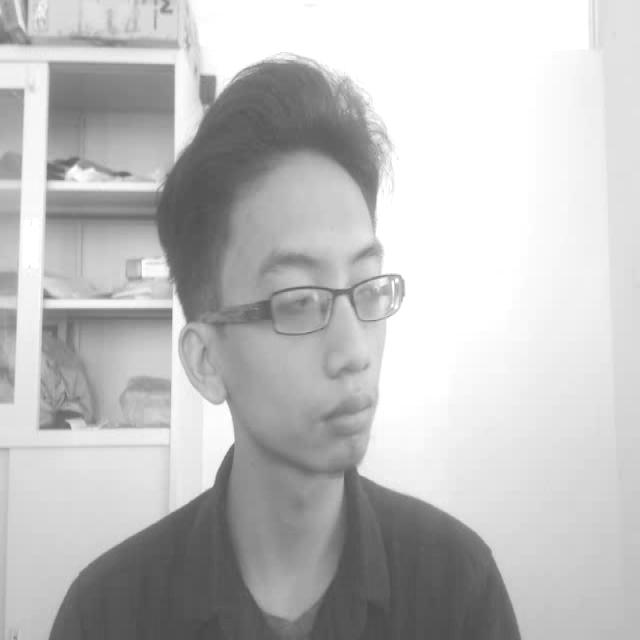real: (152, 48, 430, 480)
